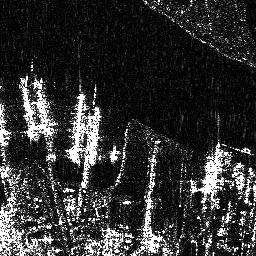ship: (67, 91, 88, 165), (18, 77, 39, 142), (88, 105, 101, 166)
